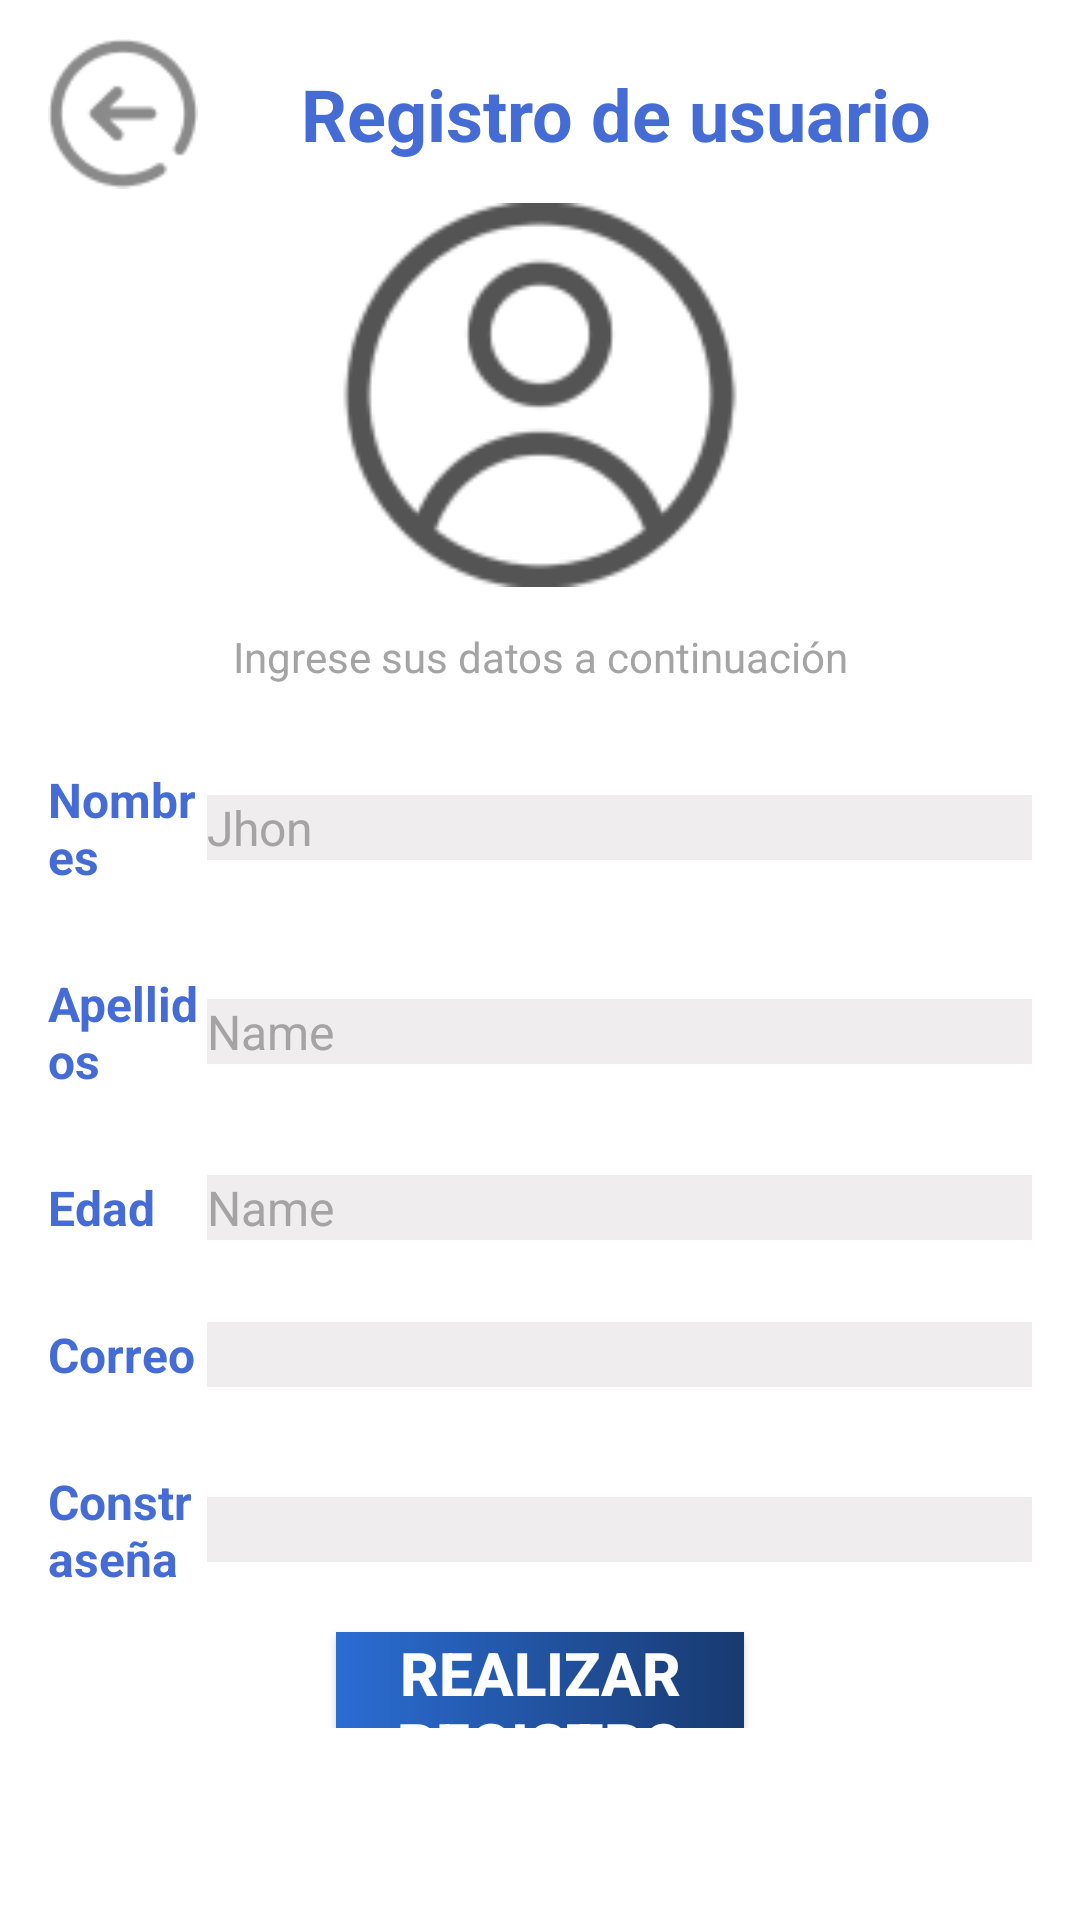

Icons on this 1080*1920 Android screen, each with its box as (x1, y1, x2, y2):
regresoos: (50, 40, 198, 189)
